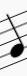G: (2, 10, 26, 67)
